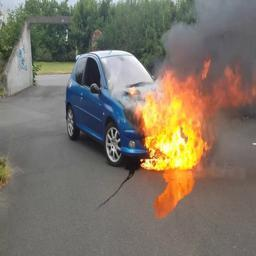fire: (130, 60, 256, 170)
